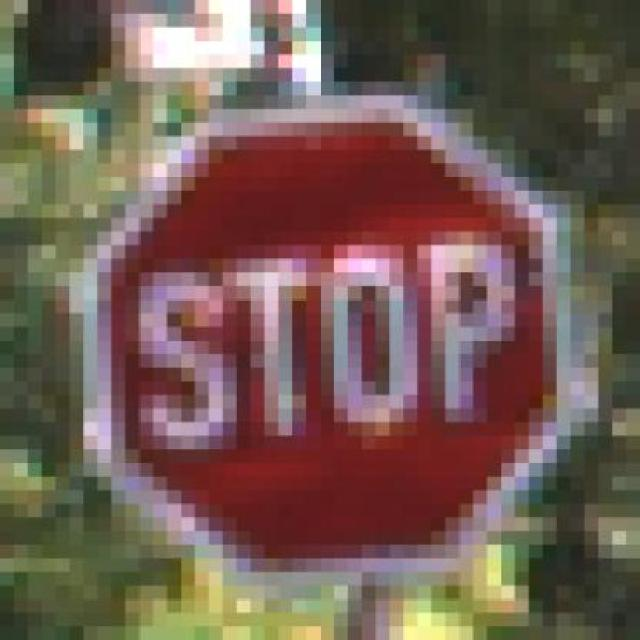Stop_Sign: (70, 96, 598, 586)
